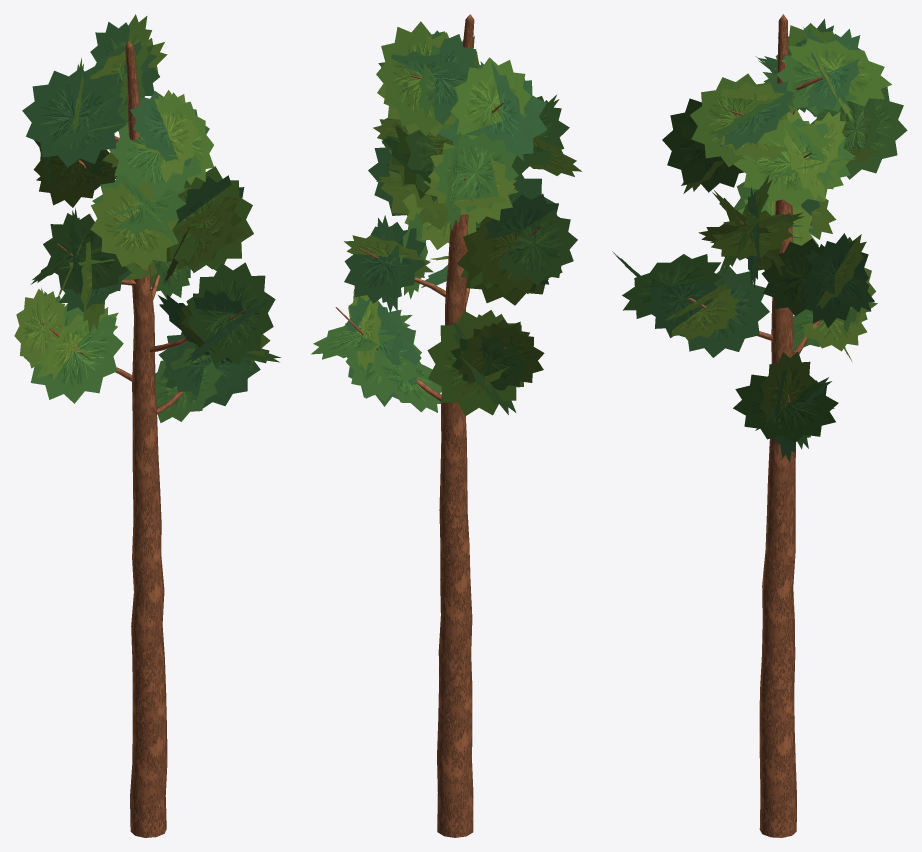
The model's file is hero_pine_a.obj.
3 renders of one model, left to right at view 1: azimuth 30°, elevation 25°; view 2: azimuth 150°, elevation 25°; view 3: azimuth 270°, elevation 25°, orthographic. The views are drawn at different scales.
Parts seen in each view (by area): view 1: hero_pine_a; view 2: hero_pine_a; view 3: hero_pine_a.
Boxes of the visible parts, box(x1,y1,x2,y2) form: hero_pine_a: box(14, 14, 281, 837); hero_pine_a: box(311, 14, 581, 837); hero_pine_a: box(612, 14, 907, 837).
Bounding box in the file's own units: 5.59 × 17.29 × 5.74.
2 materials, 2 textured.
